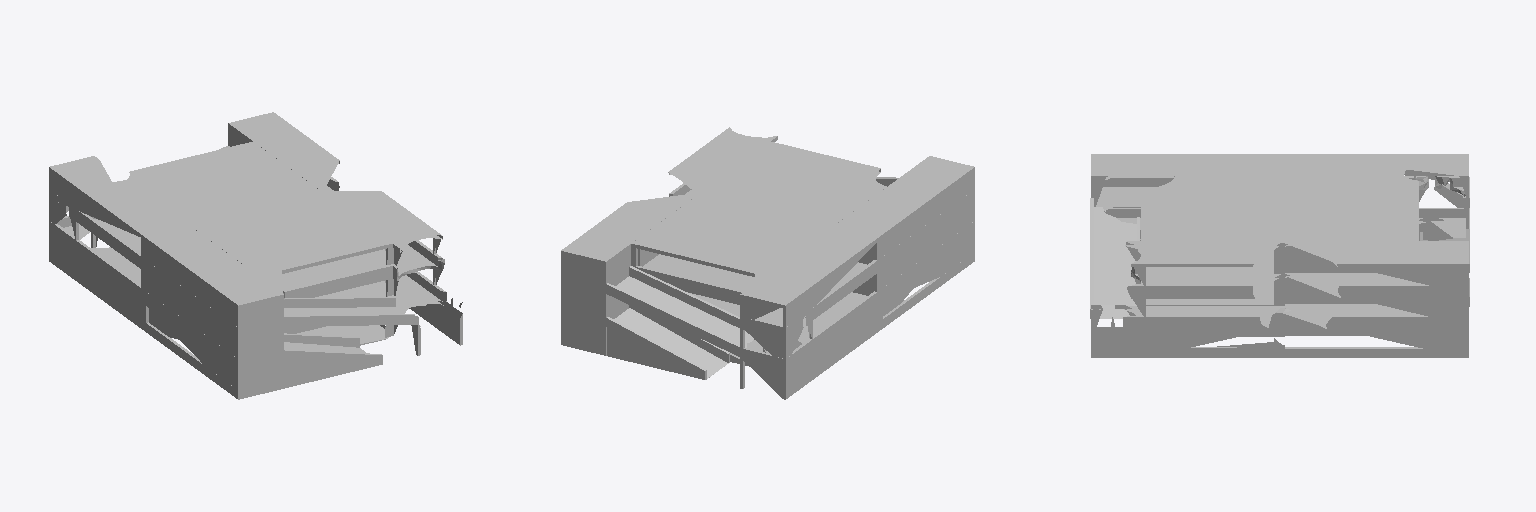
The model's file is Parking lot.obj.
The picture shows the model from 3 angles: view 1: azimuth 30°, elevation 25°; view 2: azimuth 150°, elevation 25°; view 3: azimuth 270°, elevation 25°; orthographic projection.
Parts seen in each view (by area): view 1: parking_lot; view 2: parking_lot; view 3: parking_lot.
Boxes of the visible parts, x1=… form: parking_lot: x1=49, y1=112, x2=462, y2=399; parking_lot: x1=561, y1=127, x2=974, y2=399; parking_lot: x1=1090, y1=154, x2=1469, y2=357.
Bounding box in the file's own units: 6.28 × 2.52 × 9.17.